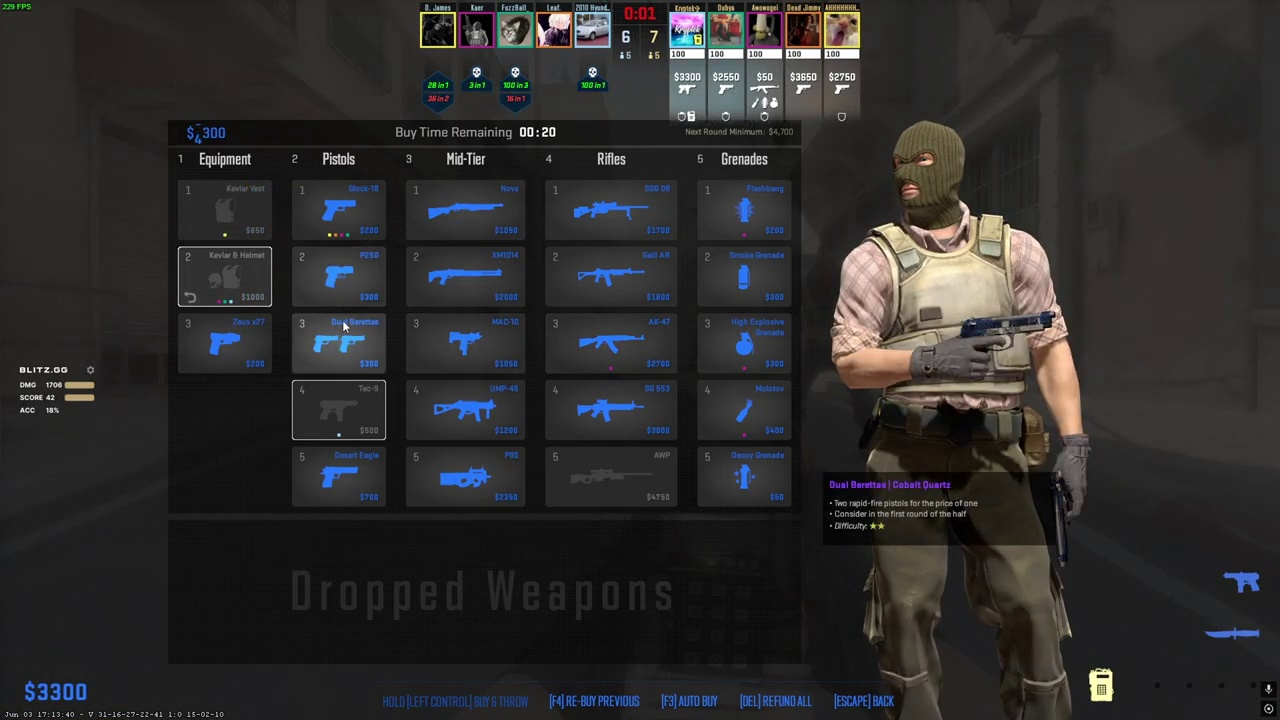Terrorist: (846, 121, 1078, 720)
